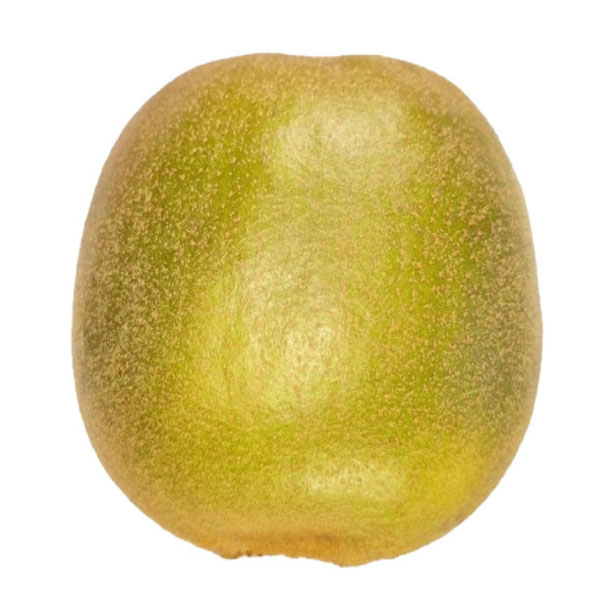kiwi: (62, 24, 566, 570)
